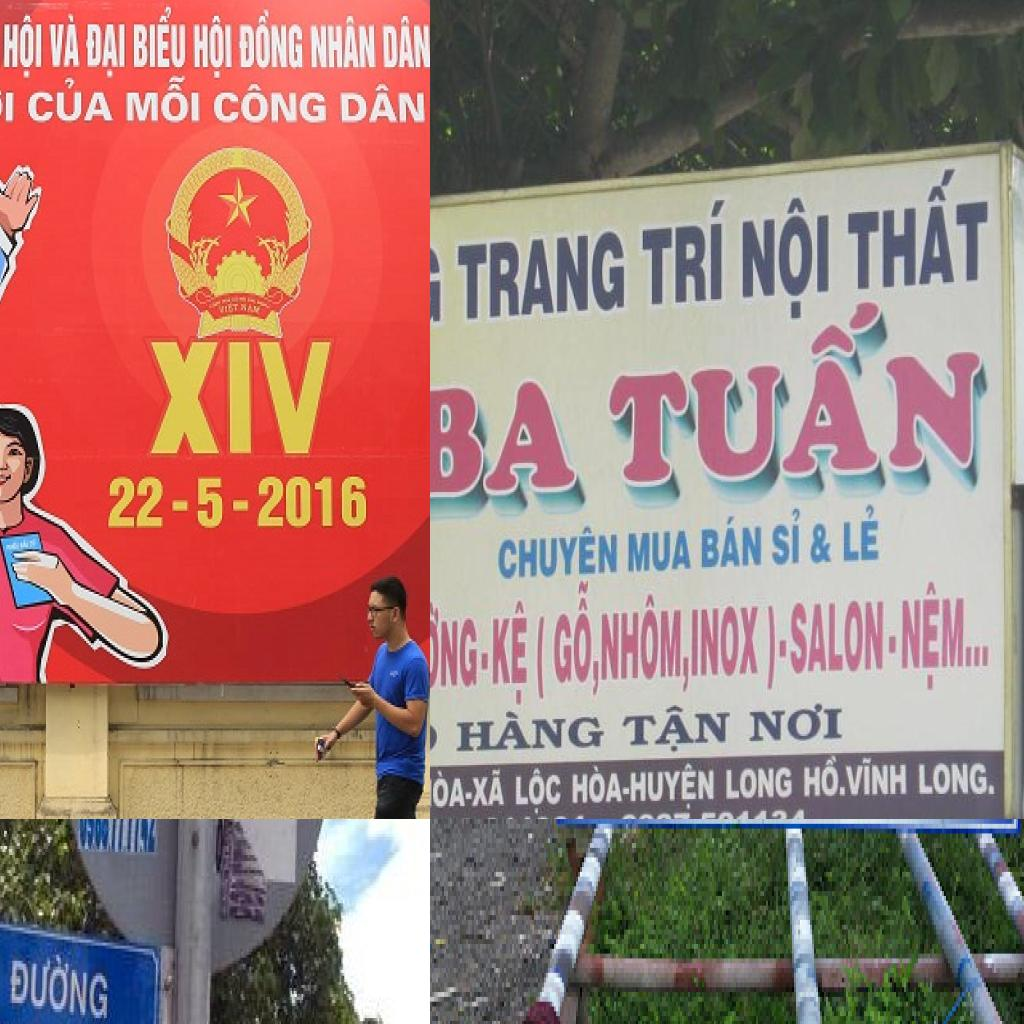text: (602, 294, 994, 509), (430, 368, 602, 512), (145, 338, 337, 462), (843, 156, 995, 294), (452, 224, 630, 326), (738, 186, 836, 318), (896, 570, 996, 697), (637, 192, 730, 311), (600, 593, 694, 695), (5, 942, 114, 1024), (790, 592, 888, 680), (451, 705, 607, 760), (496, 521, 621, 582), (256, 475, 372, 534), (552, 576, 605, 700), (620, 702, 733, 760), (690, 600, 764, 683), (743, 697, 848, 748), (233, 7, 307, 78), (488, 598, 534, 707), (430, 599, 480, 696), (210, 82, 328, 123), (123, 71, 203, 131), (338, 80, 428, 131), (26, 80, 116, 129), (310, 10, 377, 74), (629, 763, 717, 811), (699, 512, 765, 574), (132, 3, 190, 65), (917, 755, 997, 799), (104, 475, 164, 532), (380, 9, 430, 75), (628, 526, 696, 574), (193, 7, 235, 84), (4, 12, 48, 84), (78, 819, 157, 858), (843, 753, 909, 799), (88, 16, 129, 84), (724, 765, 795, 803), (514, 765, 565, 816), (842, 506, 884, 567), (571, 763, 625, 808), (802, 753, 848, 799), (770, 508, 803, 570), (49, 10, 81, 72), (195, 475, 225, 534), (470, 767, 509, 811), (763, 598, 780, 695), (430, 768, 468, 811), (535, 606, 551, 704), (810, 519, 838, 569), (0, 86, 19, 137), (214, 819, 227, 876), (778, 634, 792, 661), (480, 649, 490, 673), (888, 634, 898, 656), (466, 789, 474, 802), (622, 787, 632, 796)
